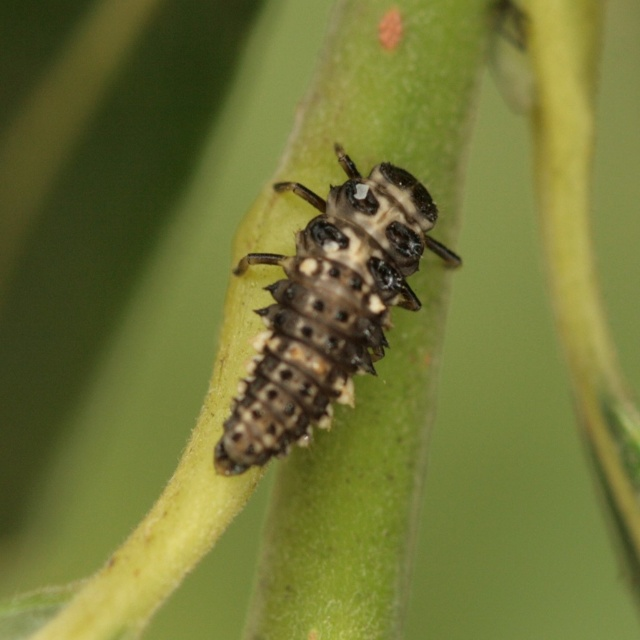Caterpillar: (215, 133, 475, 474)
